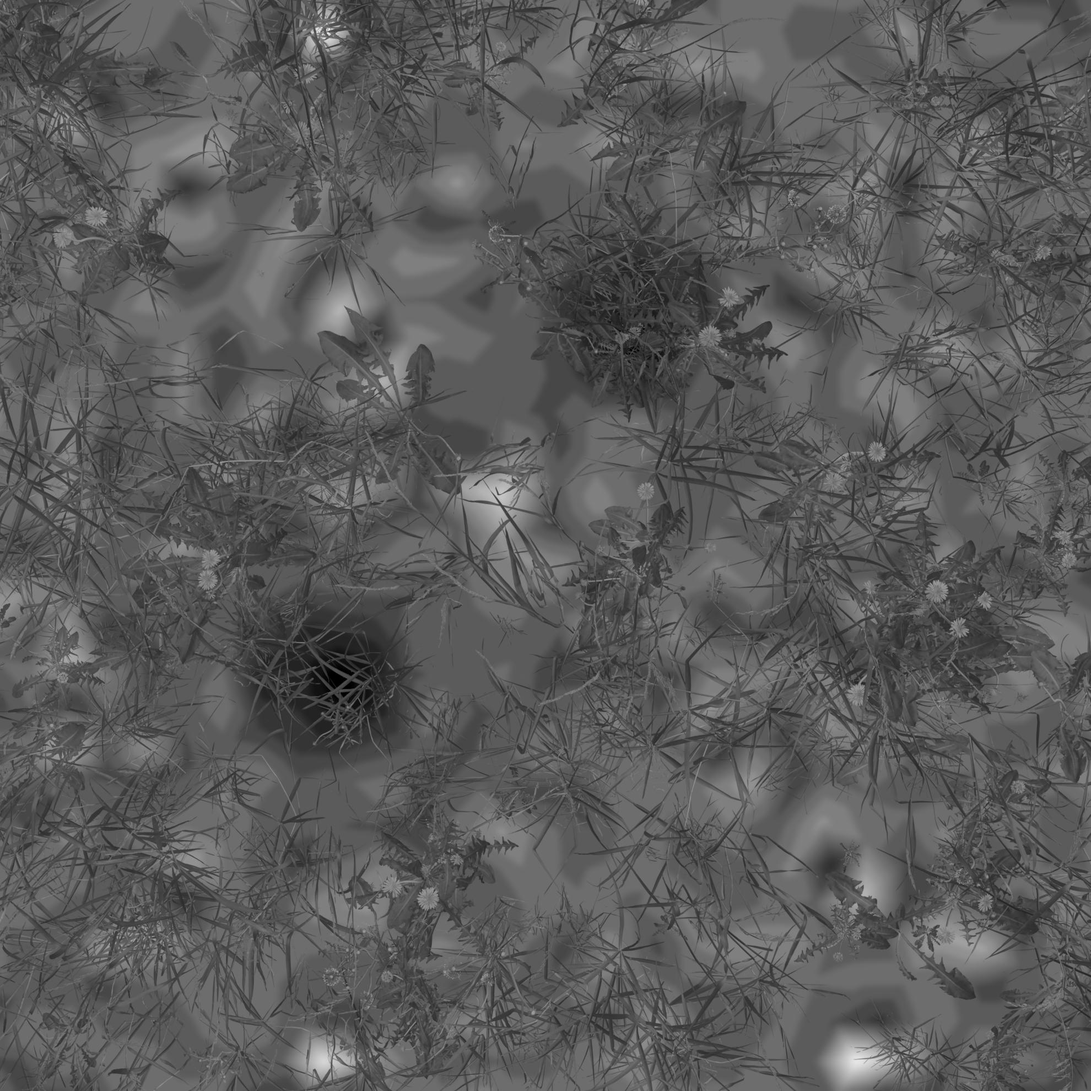landmine: (278, 626, 398, 744)
